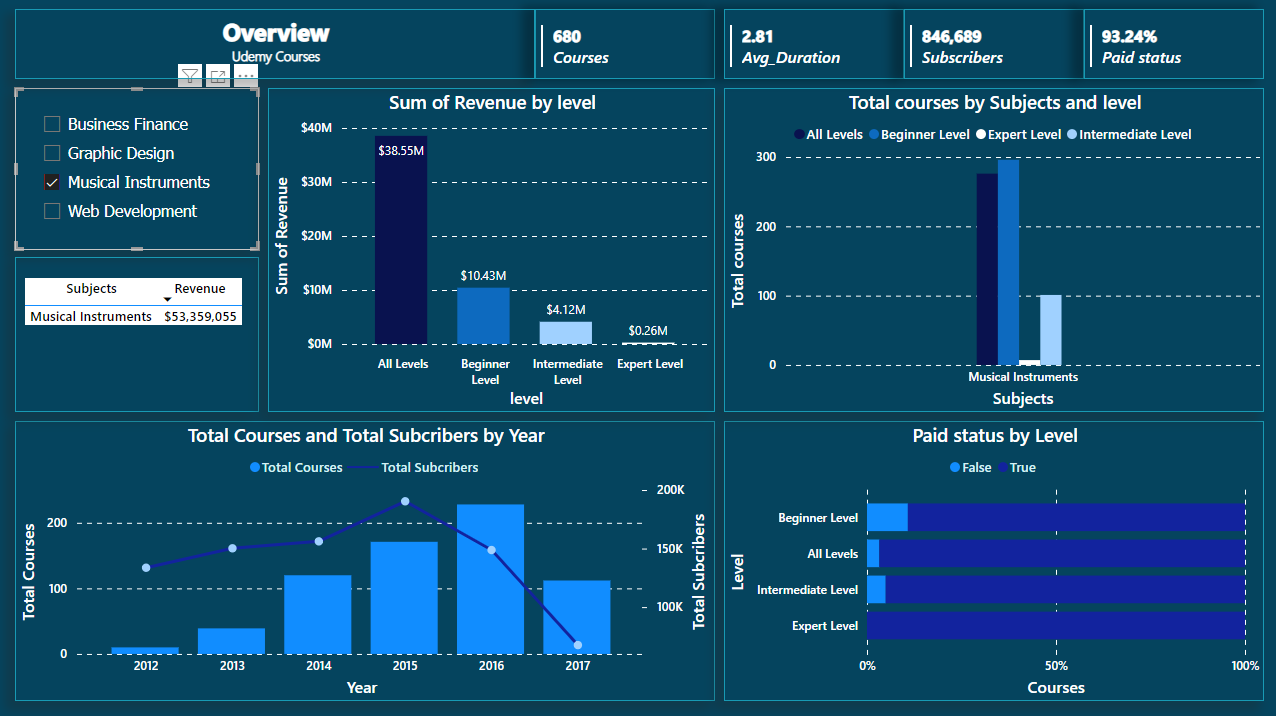

Layout of this report page (visuals, bound fields, positions):
{"tool":"powerbi","page":{"name":"Overviews","canvas":[1280,720],"ordinal":0},"visuals":[{"type":"lineStackedColumnComboChart","fields":{"Category":["2  Udemy_courses.published_timestamp.Variation.Date Hierarchy.Year","2  Udemy_courses.published_timestamp.Variation.Date Hierarchy.Month"],"Y2":["Sum(2  Udemy_courses.num_subscribers)"],"Y":["CountNonNull(Udemy_courses.course_title)"]},"box":[15,422,700,280],"z":0},{"type":"hundredPercentStackedBarChart","title":"Paid status each Level","fields":{"Category":["Udemy_courses.level"],"Series":["Udemy_courses.is_paid"],"Y":["CountNonNull(Udemy_courses.course_id)"]},"box":[724,422,540,280],"z":1000},{"type":"multiRowCard","title":"Courses","fields":{"Values":["CountNonNull(2  Udemy_courses.course_title)"]},"box":[535,10,180,70],"z":2000},{"type":"multiRowCard","fields":{"Values":["2  Udemy_courses.Average of content_duration average per course_title"]},"box":[723.8,10,180,70],"z":3000},{"type":"multiRowCard","fields":{"Values":["Sum(2  Udemy_courses.num_subscribers)"]},"box":[903.8,10,180,70],"z":4000},{"type":"slicer","title":"Subjects","fields":{"Values":["2  Udemy_courses.subject"]},"box":[15,89,244,162],"z":5000},{"type":"textbox","box":[15,10,520,70],"z":6000},{"type":"tableEx","fields":{"Values":["Udemy_courses.subject","Sum(Udemy_courses.Revenue)"]},"box":[15,257.9,244.3,155],"z":7000},{"type":"clusteredColumnChart","fields":{"Category":["Udemy_courses.subject"],"Y":["CountNonNull(Udemy_courses.course_title)"],"Series":["Udemy_courses.level"]},"box":[724,89,540,324],"z":8000},{"type":"multiRowCard","fields":{"Values":["Udemy_courses.Paid status"]},"box":[1083.8,10,180,70],"z":9000},{"type":"columnChart","fields":{"Y":["Sum(Udemy_courses.Revenue)"],"Category":["Udemy_courses.level"]},"box":[268,89,447,324],"z":10000}]}

Visuals, with their boxes in screenshot pixels (x1, y1, x2, y2), scaled from the page's 1280x720 canvas onto the 1276x716 screenshot:
lineStackedColumnComboChart - 2  Udemy_courses.published_timestamp.Variation.Date Hierarchy.Year x 2  Udemy_courses.published_timestamp.Variation.Date Hierarchy.Month: rect(15, 420, 713, 698)
"Paid status each Level" hundredPercentStackedBarChart: rect(722, 420, 1260, 698)
"Courses" multiRowCard: rect(533, 10, 713, 80)
multiRowCard - 2  Udemy_courses.Average of content_duration average per course_title: rect(722, 10, 901, 80)
multiRowCard - Sum(2  Udemy_courses.num_subscribers): rect(901, 10, 1080, 80)
"Subjects" slicer: rect(15, 89, 258, 250)
textbox: rect(15, 10, 533, 80)
tableEx - Udemy_courses.subject x Sum(Udemy_courses.Revenue): rect(15, 256, 258, 411)
clusteredColumnChart - Udemy_courses.subject x CountNonNull(Udemy_courses.course_title): rect(722, 89, 1260, 411)
multiRowCard - Udemy_courses.Paid status: rect(1080, 10, 1260, 80)
columnChart - Sum(Udemy_courses.Revenue) x Udemy_courses.level: rect(267, 89, 713, 411)
